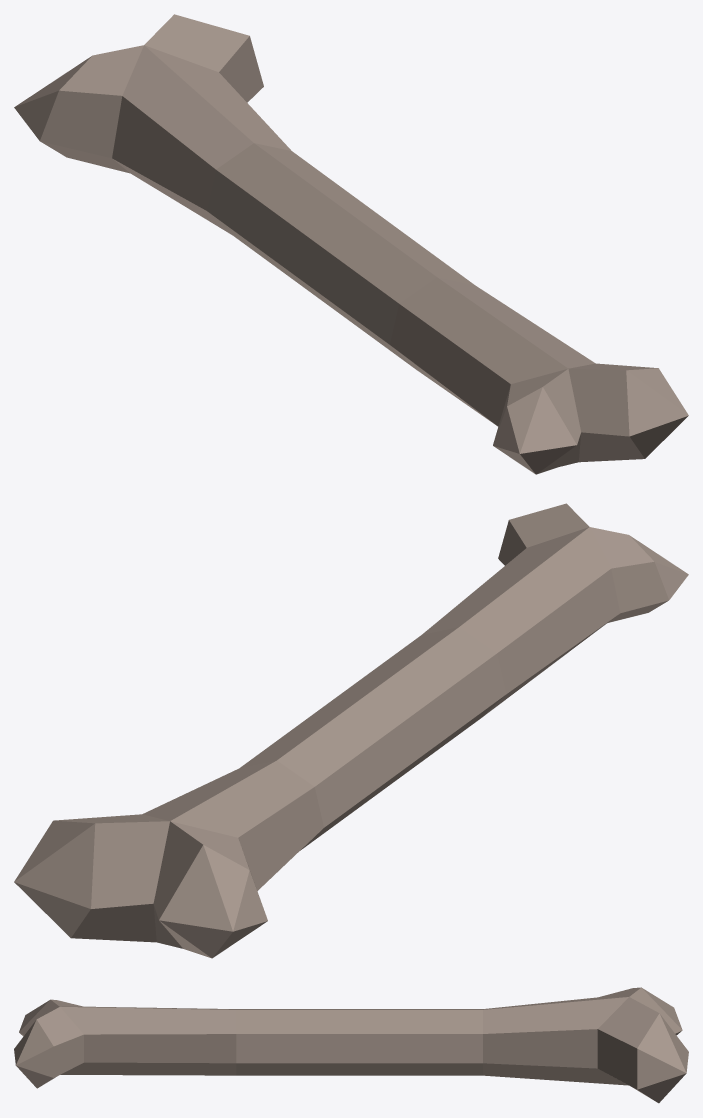
The model's file is LPHorror_BoneB.fbx.
The picture shows the model from 3 angles, top to bottom: view 1: azimuth 30°, elevation 25°; view 2: azimuth 150°, elevation 25°; view 3: azimuth 270°, elevation 25°; orthographic projection. The views are drawn at different scales.
Visible parts, largest first — view 1: BoneB; view 2: BoneB; view 3: BoneB.
Part boxes in pixels (x1,y1,x2,y2): BoneB: (14,14,688,474); BoneB: (14,503,688,958); BoneB: (14,987,688,1103).
Size of the model in its own units: 22.27 by 11.86 by 85.12.
